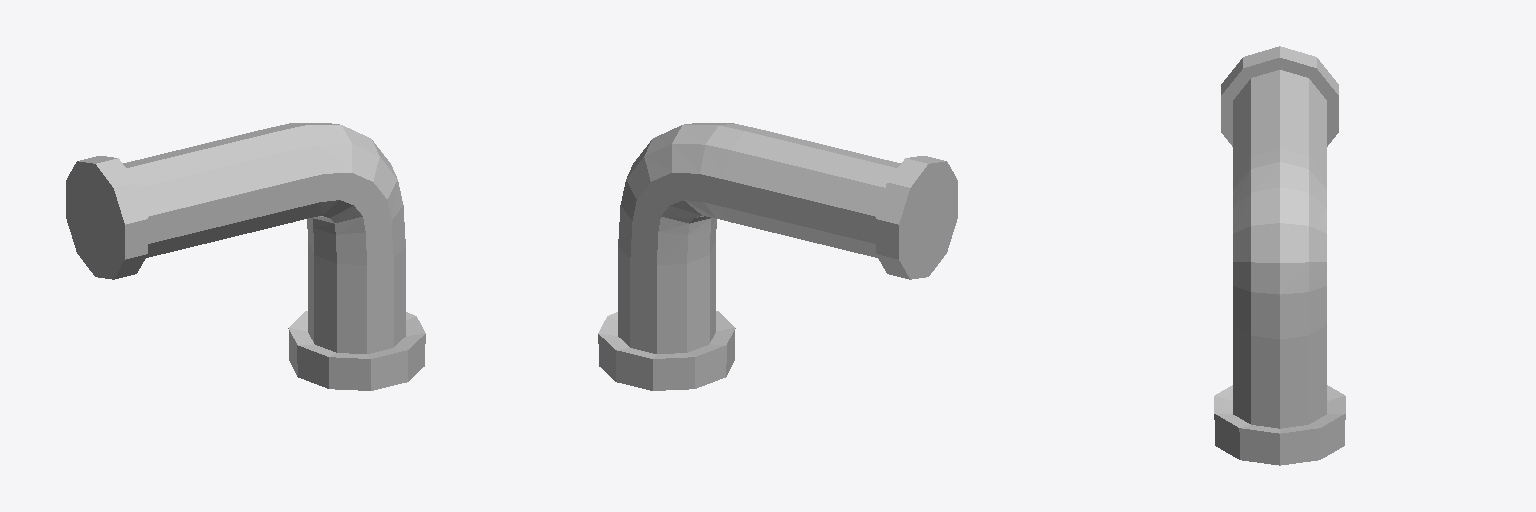
The model's file is pipe.obj.
3 views of the same model, side by side, from view 1: azimuth 30°, elevation 25°; view 2: azimuth 150°, elevation 25°; view 3: azimuth 270°, elevation 25° (orthographic).
Visible parts, largest first — view 1: pCylinder1; view 2: pCylinder1; view 3: pCylinder1.
Boxes of the visible parts, <box> form: pCylinder1: <box>66,123,425,390</box>; pCylinder1: <box>598,123,957,390</box>; pCylinder1: <box>1214,46,1345,465</box>.
Bounding box in the file's own units: 7.55 × 5.9 × 2.67.